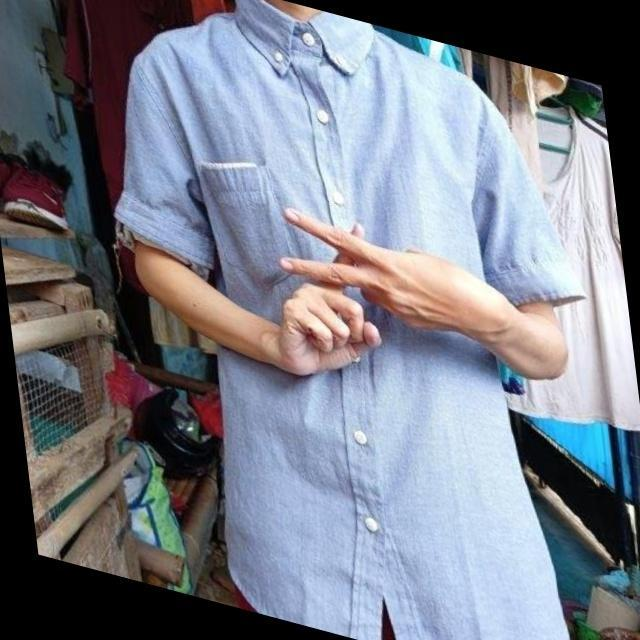F: (268, 195, 413, 378)
